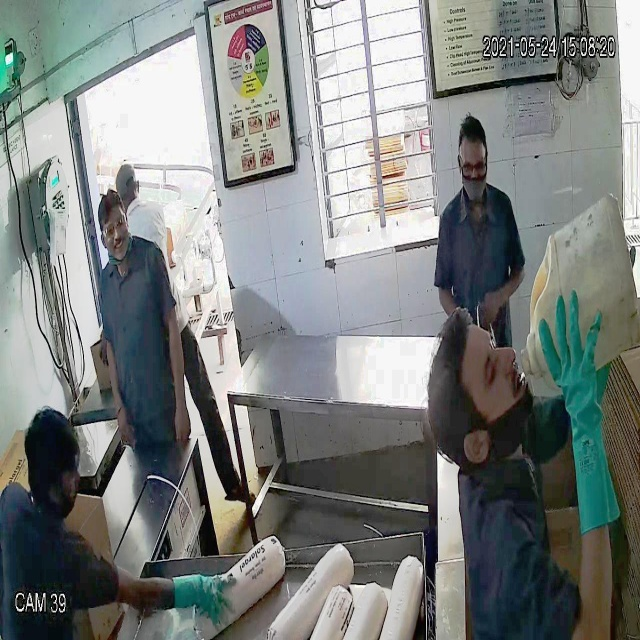Gafas: (455, 148, 491, 183), (94, 209, 133, 240)
Sin_gafas: (478, 319, 505, 468)
